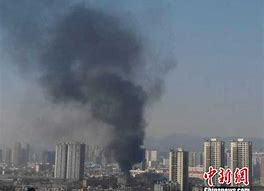smoke: (41, 1, 160, 167)
